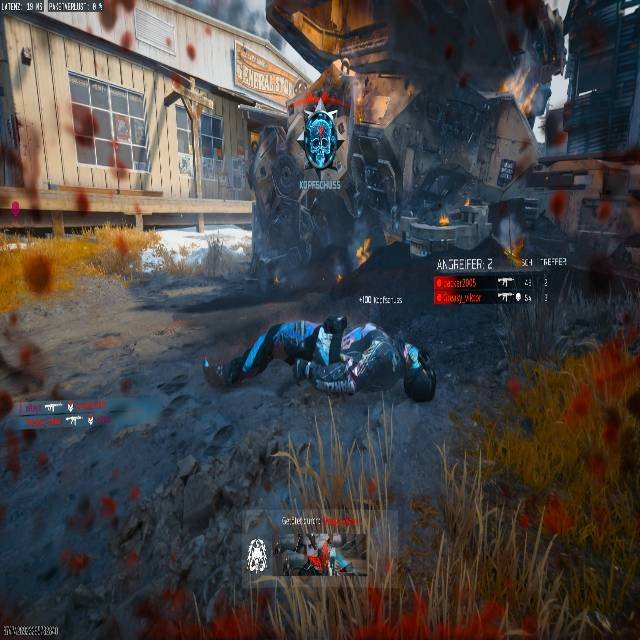head: (404, 362, 436, 402)
